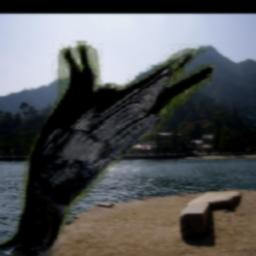Crow: (0, 42, 214, 256)
